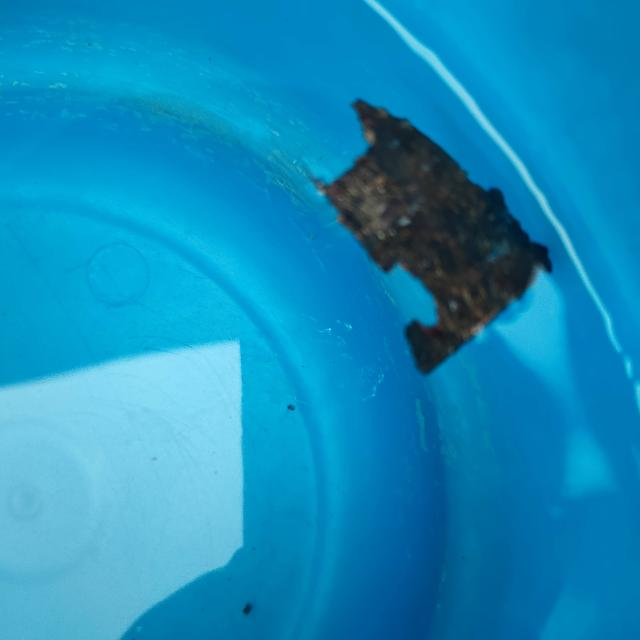litter: (319, 84, 553, 381)
